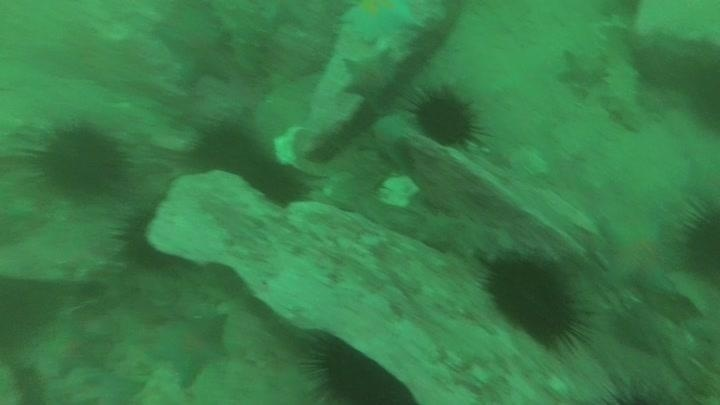echinus: (478, 249, 589, 349), (31, 118, 129, 200), (304, 336, 414, 404), (189, 118, 268, 187), (409, 84, 485, 151), (675, 194, 720, 288), (112, 202, 170, 270), (251, 158, 311, 208)
holothurian: (598, 37, 646, 133)
scallop: (271, 124, 335, 181)
starfish: (595, 209, 684, 296), (148, 308, 231, 388), (154, 8, 237, 88), (35, 312, 113, 379), (337, 1, 421, 45), (339, 49, 399, 104), (555, 46, 611, 94)
